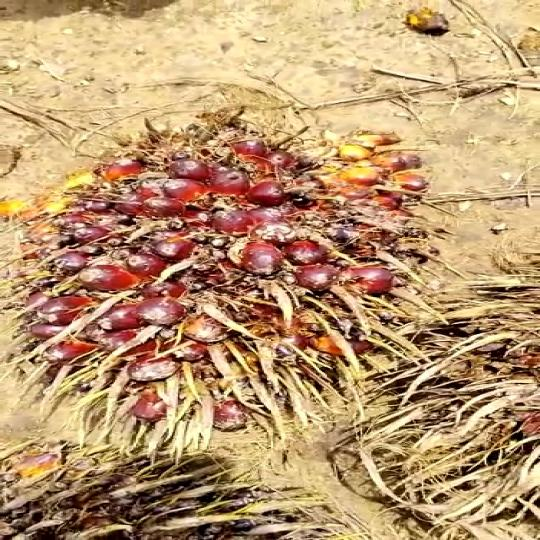masak: (22, 107, 467, 447)
